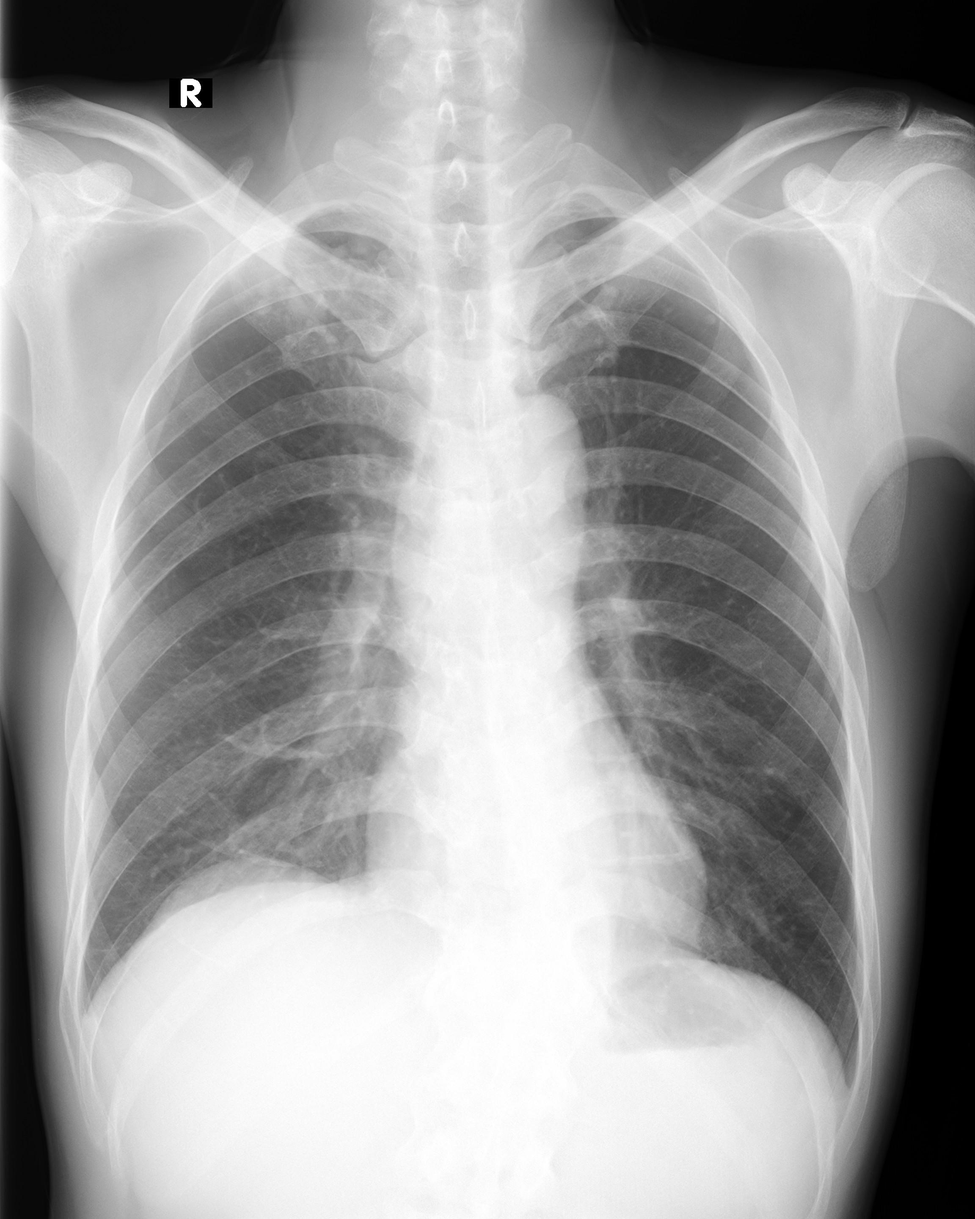Pulmonary fibrosis: (220, 718, 360, 768)
